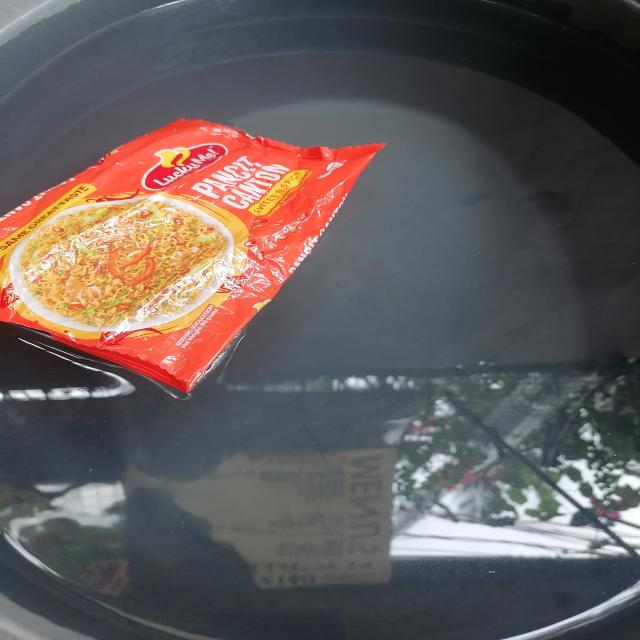Plastic Wrapper: (0, 119, 384, 393)
